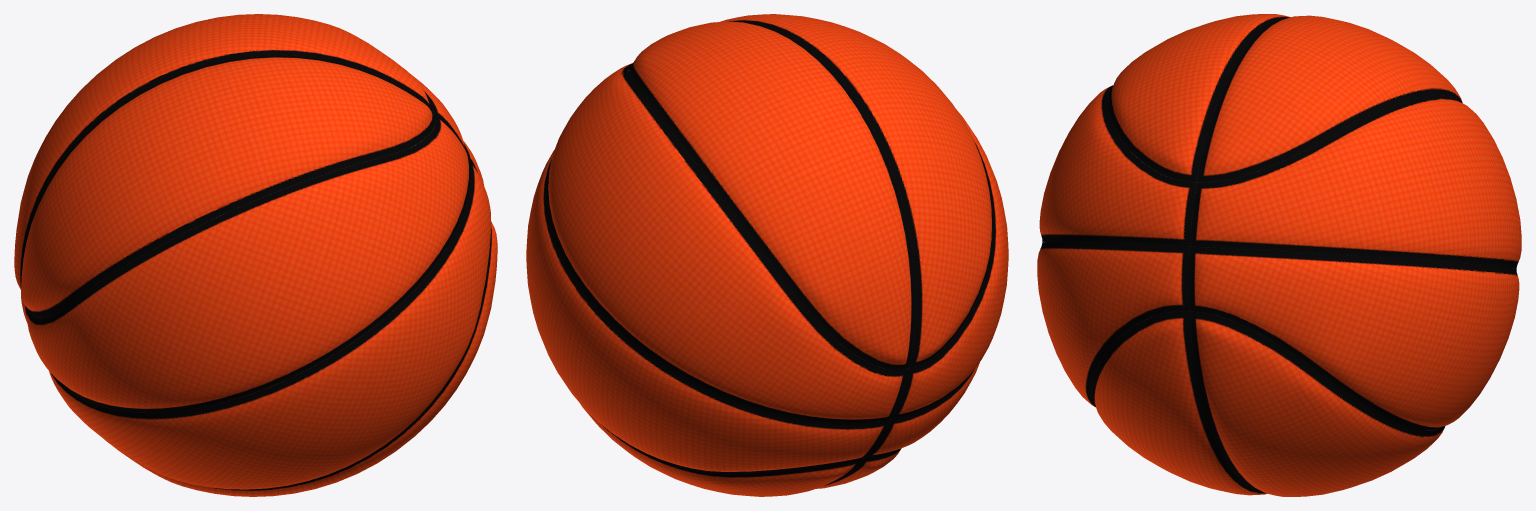
The model's file is Ball.glb.
3 views of the same model, side by side, from view 1: azimuth 30°, elevation 25°; view 2: azimuth 150°, elevation 25°; view 3: azimuth 270°, elevation 25° (orthographic).
Parts seen in each view (by area): view 1: Ball; view 2: Ball; view 3: Ball.
Part boxes in pixels (x1=…): Ball: x1=14, y1=14, x2=497, y2=496; Ball: x1=526, y1=14, x2=1008, y2=496; Ball: x1=1037, y1=14, x2=1521, y2=496.
Bounding box in the file's own units: 0.2415 × 0.242 × 0.2415.
Materials: 1 (1 with a texture image).
